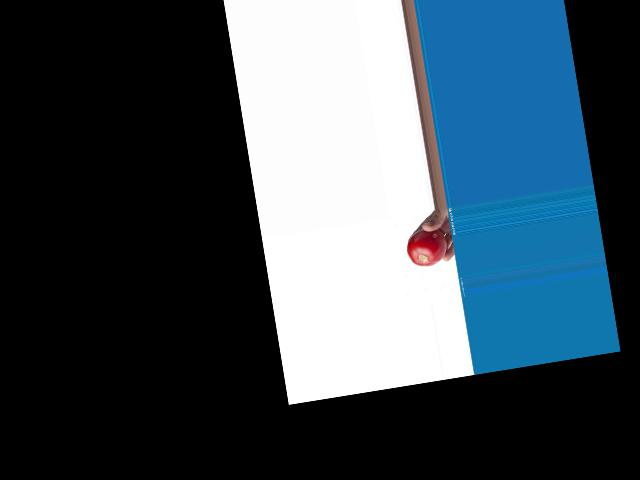tomato: (404, 225, 449, 269)
